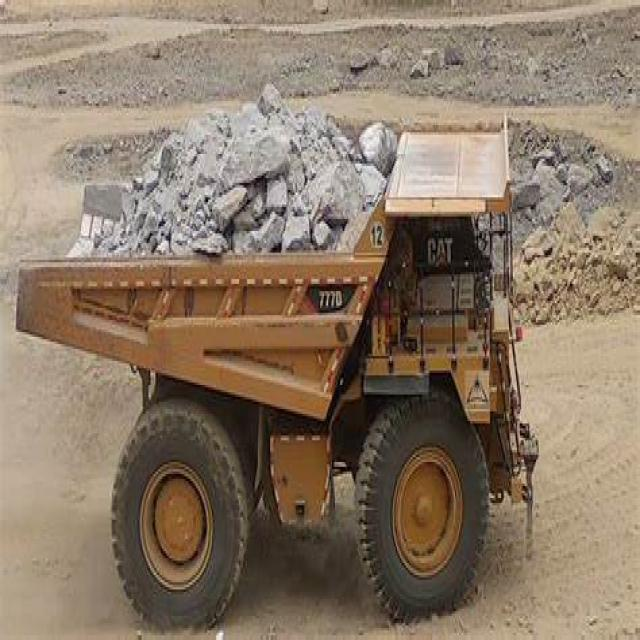dump_truck: (13, 92, 551, 638)
